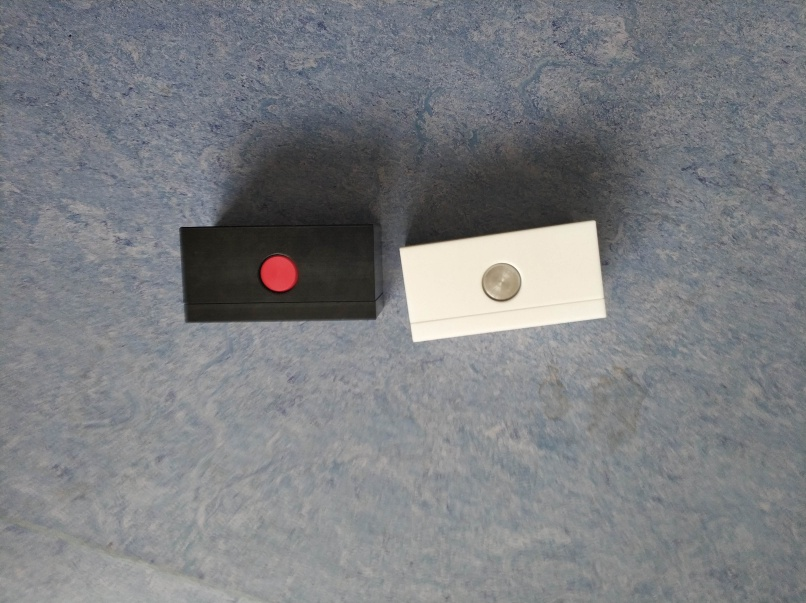black+black+red: (176, 217, 388, 331)
white+white+silver: (400, 217, 609, 345)
